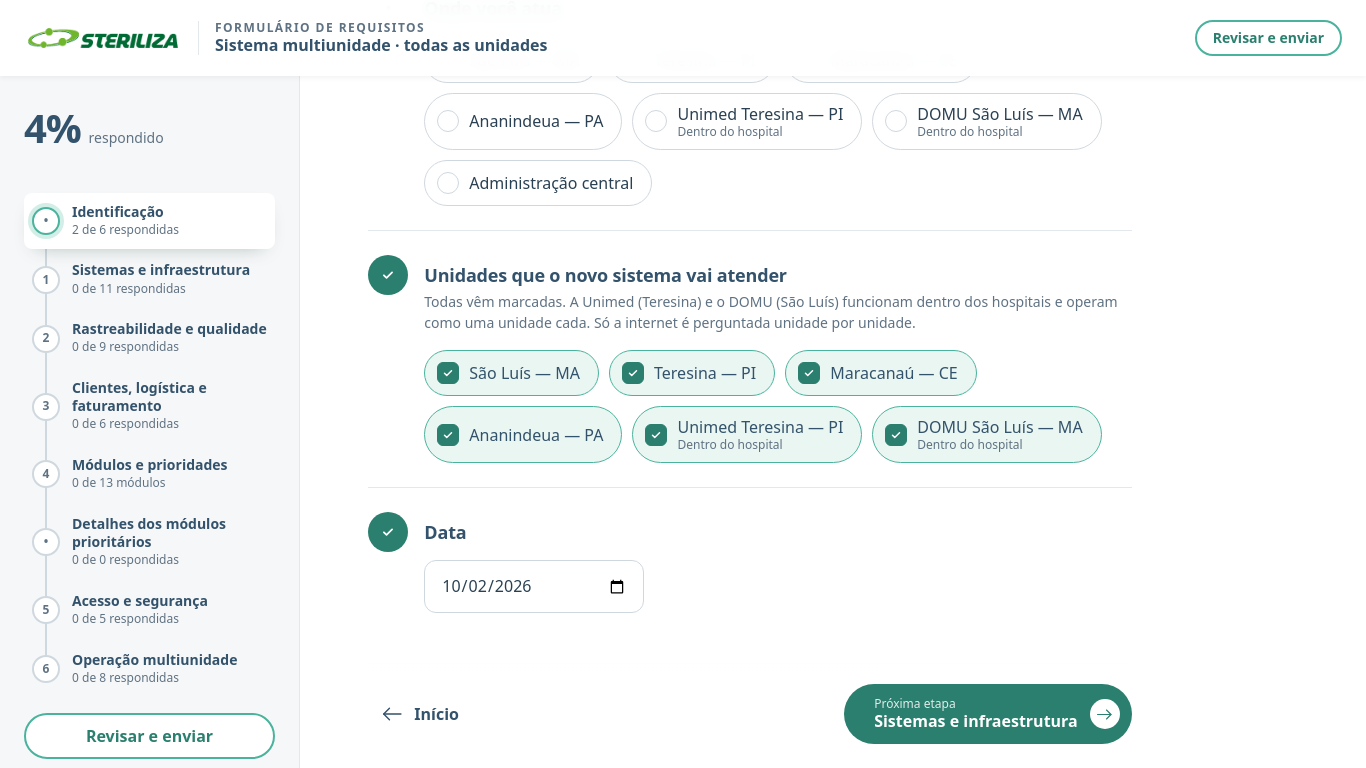
Test: fluxo completo › deixa de perguntar pela unidade desmarcada na identificação
(page scrolled)
What coordinates should you click on to do the following:
click the checkbox labelled "Ananindeua — PA"
I would click on:
 (523, 435)
Its box is [424,406,622,463].
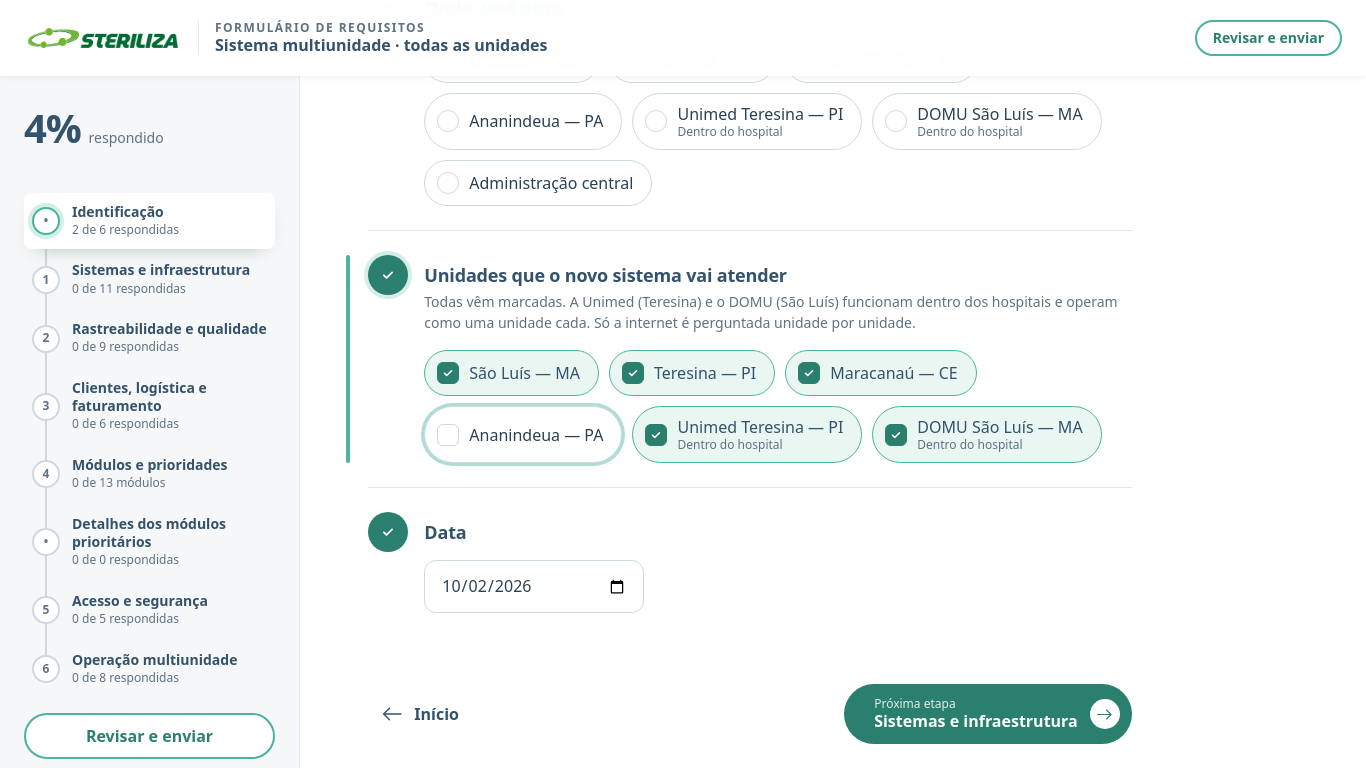
What coordinates should you click on to do the following:
click the button "Próxima etapa Sistemas e infraestrutura"
I would click on:
 (988, 714)
Its box is [844,684,1132,744].
(page scrolled)
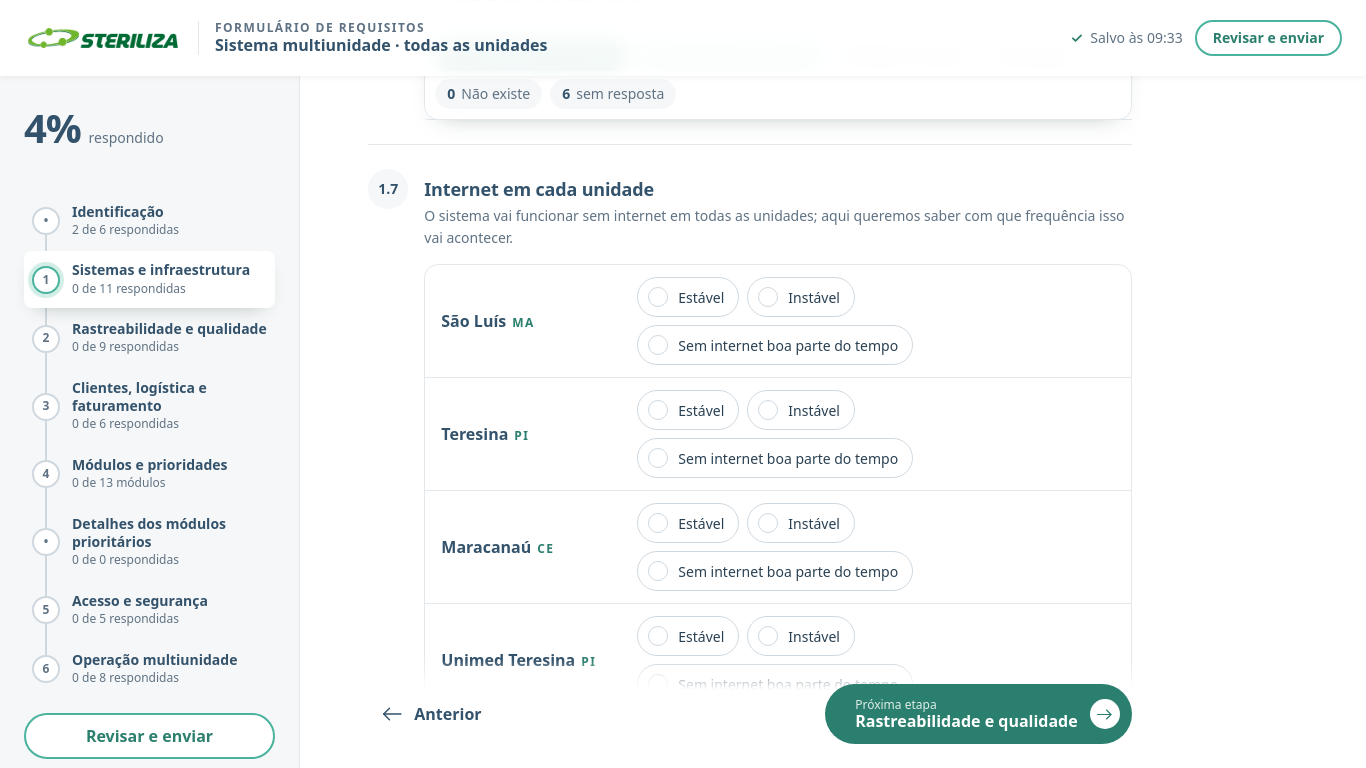
Expected: the element named "Teresina PI" is shown, [637,390,913,478]
